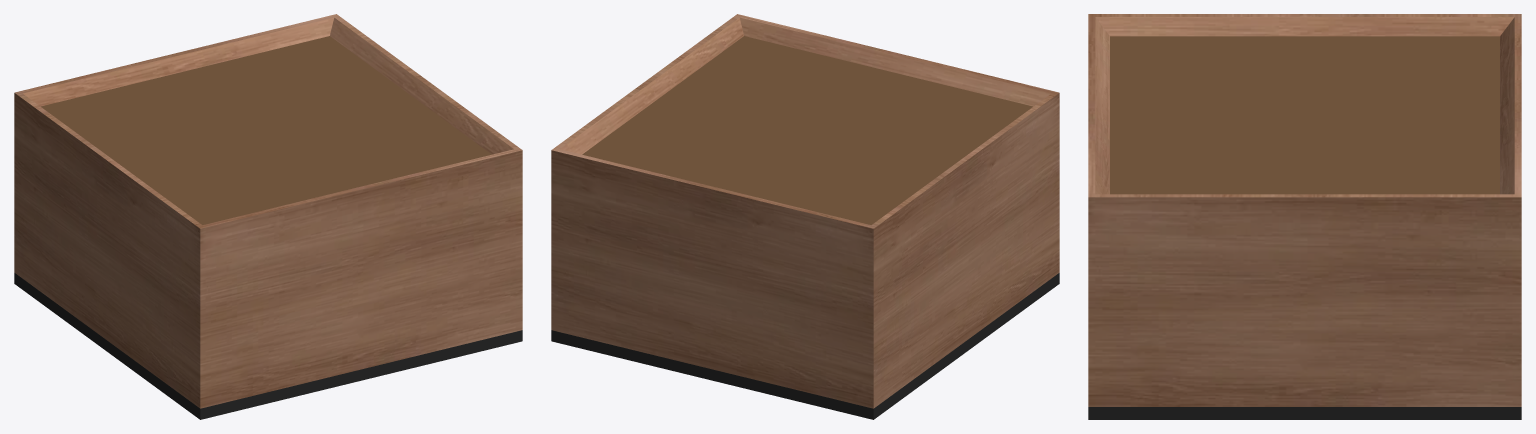
The model's file is pot-plant-with-mud.glb.
3 views of the same model, side by side, from view 1: azimuth 30°, elevation 25°; view 2: azimuth 150°, elevation 25°; view 3: azimuth 270°, elevation 25° (orthographic). The views are drawn at different scales.
Parts seen in each view (by area): view 1: Object_1136, MUD_NODE, Object_1146; view 2: Object_1136, MUD_NODE, Object_1146; view 3: Object_1136, MUD_NODE, Object_1146.
Boxes of the visible parts, <box> form: Object_1136: <box>14,14,522,408</box>; MUD_NODE: <box>41,36,491,224</box>; Object_1146: <box>14,273,522,419</box>; Object_1136: <box>551,14,1059,408</box>; MUD_NODE: <box>582,36,1032,224</box>; Object_1146: <box>551,273,1059,419</box>; Object_1136: <box>1088,14,1521,406</box>; MUD_NODE: <box>1110,36,1499,194</box>; Object_1146: <box>1088,407,1521,419</box>.
Bounding box in the file's own units: 0.3 × 0.17 × 0.3.
4 materials, 2 textured.
